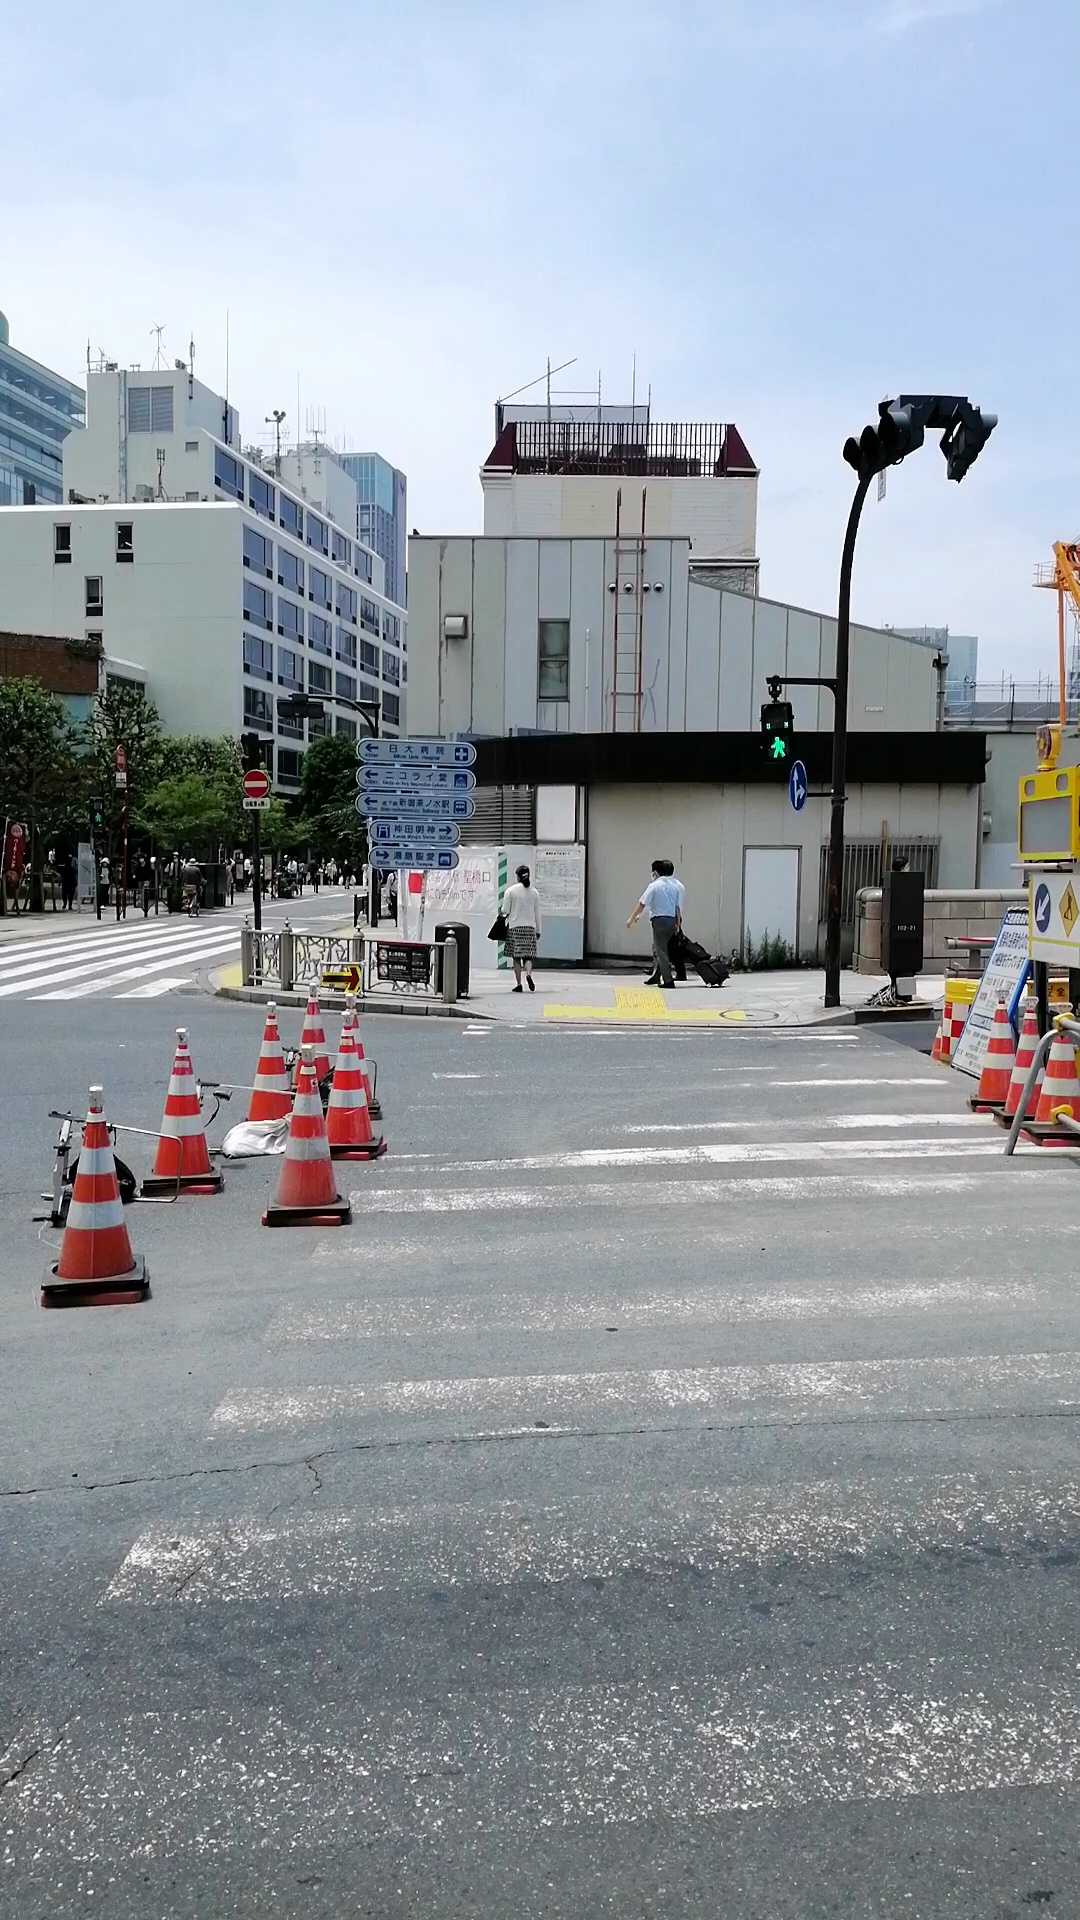green: (760, 702, 795, 765)
